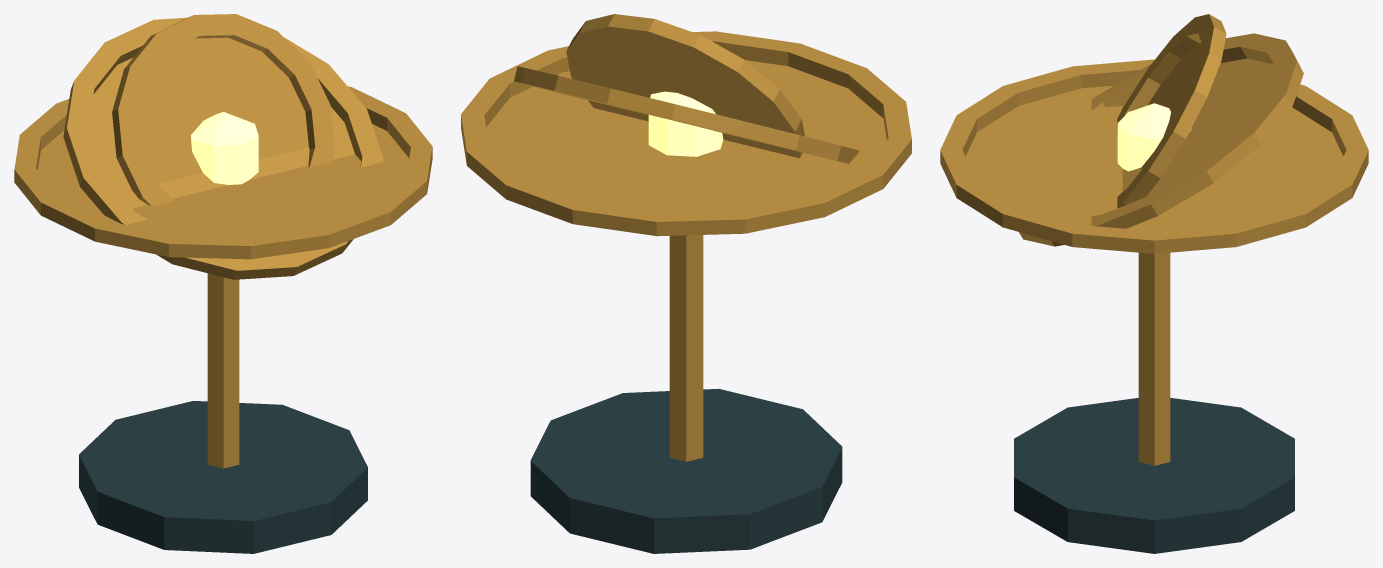
File: orrery_brass.glb
The picture shows the model from 3 angles, left to right: view 1: azimuth 30°, elevation 25°; view 2: azimuth 150°, elevation 25°; view 3: azimuth 270°, elevation 25°; orthographic projection. The views are drawn at different scales.
Parts seen in each view (by area): view 1: orrery_brass; view 2: orrery_brass; view 3: orrery_brass.
Boxes of the visible parts, <box> form: orrery_brass: <box>14,14,432,553</box>; orrery_brass: <box>461,14,911,553</box>; orrery_brass: <box>940,14,1368,553</box>.
Size of the model in its own units: 1.16 by 1.39 by 1.16.
